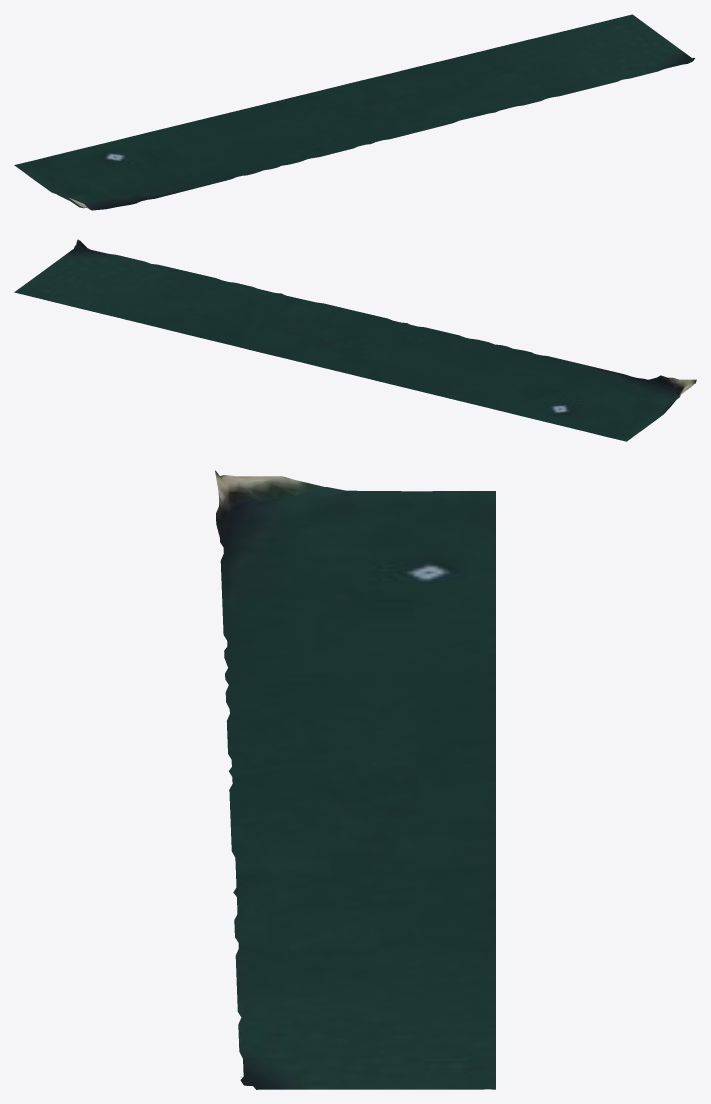
3 views of the same model, one above another, from view 1: azimuth 30°, elevation 25°; view 2: azimuth 150°, elevation 25°; view 3: azimuth 270°, elevation 25° (orthographic). The views are drawn at different scales.
Bounding box in the file's own units: 418 × 7.13 × 83.02.
1 material, 1 textured.
